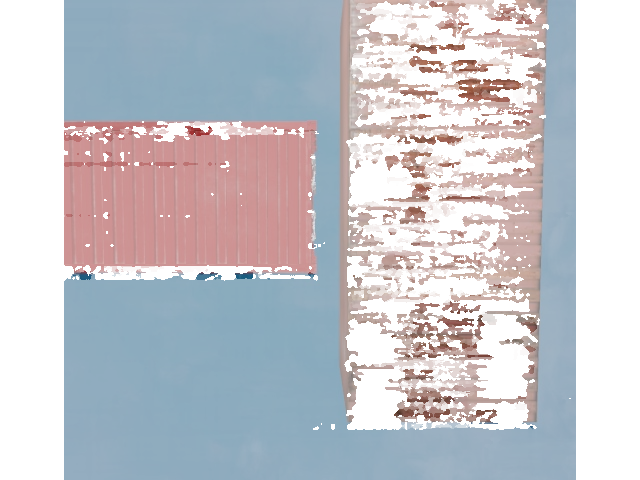container4: (339, 0, 547, 432)
container5: (0, 118, 333, 279)
